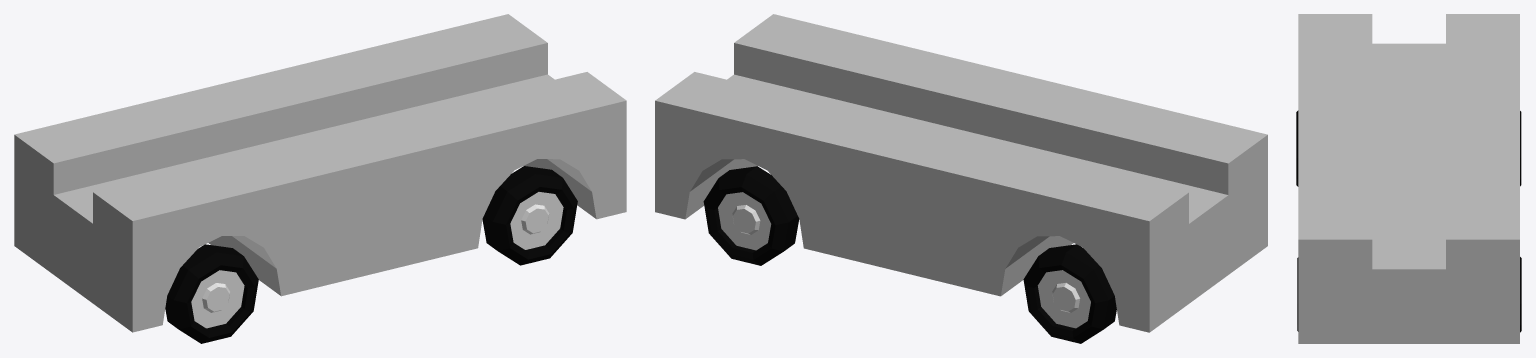
File: BoatTrailer.fbx
3 views of the same model, side by side, from view 1: azimuth 30°, elevation 25°; view 2: azimuth 150°, elevation 25°; view 3: azimuth 270°, elevation 25° (orthographic). The views are drawn at different scales.
Parts seen in each view (by area): view 1: Wheel1-4; view 2: Wheel1-4; view 3: Wheel1-4.
Boxes of the visible parts, box(x1,y1,x2,y2) form: Wheel1-4: box(14, 14, 626, 343); Wheel1-4: box(655, 14, 1267, 343); Wheel1-4: box(1296, 14, 1521, 343).
Size of the model in its own units: 4.28 by 1.18 by 1.8.
